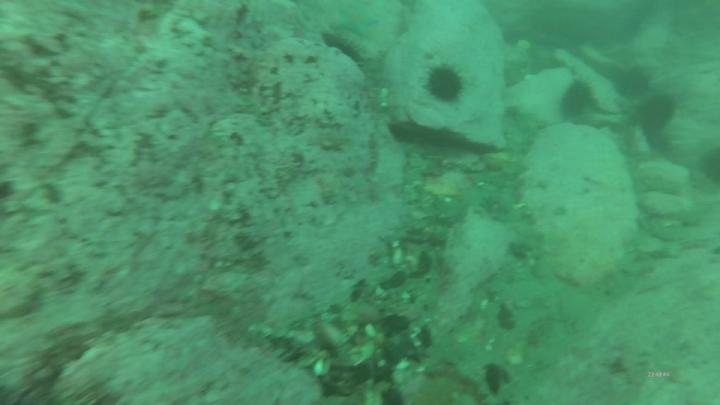echinus: (421, 59, 469, 108), (636, 94, 680, 137), (320, 31, 367, 68), (614, 66, 656, 103), (561, 79, 598, 119), (697, 145, 720, 188)
